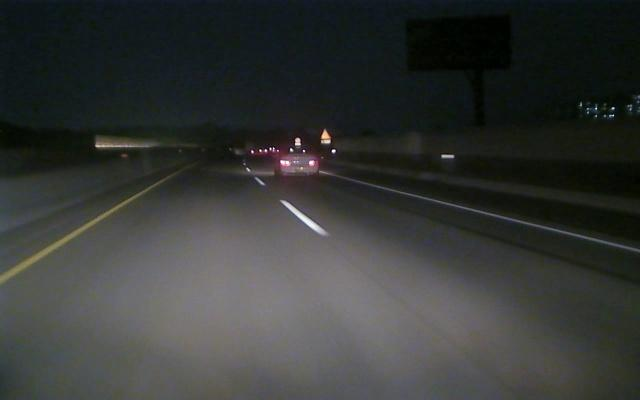lane: (329, 173, 638, 254), (1, 196, 136, 283), (258, 179, 330, 237)
